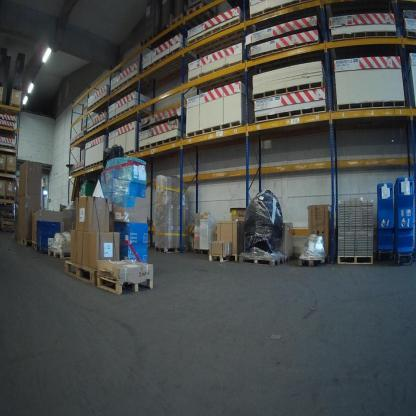pallet: (189, 13, 257, 65), (187, 55, 263, 87), (183, 118, 257, 150), (248, 78, 326, 107), (255, 101, 334, 129), (139, 45, 200, 81), (336, 95, 406, 124), (94, 273, 158, 300), (107, 68, 149, 103), (331, 27, 398, 48), (105, 102, 157, 129), (251, 2, 314, 23), (138, 134, 187, 159), (60, 257, 94, 290), (239, 247, 284, 267), (185, 2, 218, 29), (337, 249, 378, 267), (89, 91, 110, 118), (45, 246, 77, 263), (296, 253, 327, 270), (165, 10, 188, 32), (85, 119, 108, 140), (151, 244, 190, 255), (191, 244, 216, 261), (208, 252, 233, 268), (82, 159, 104, 175), (401, 27, 416, 46), (2, 211, 15, 232), (17, 235, 32, 252), (230, 251, 248, 263), (121, 147, 137, 159), (1, 123, 16, 132), (281, 251, 293, 262), (4, 192, 16, 203), (1, 145, 17, 152), (7, 167, 17, 178), (31, 239, 38, 252)
